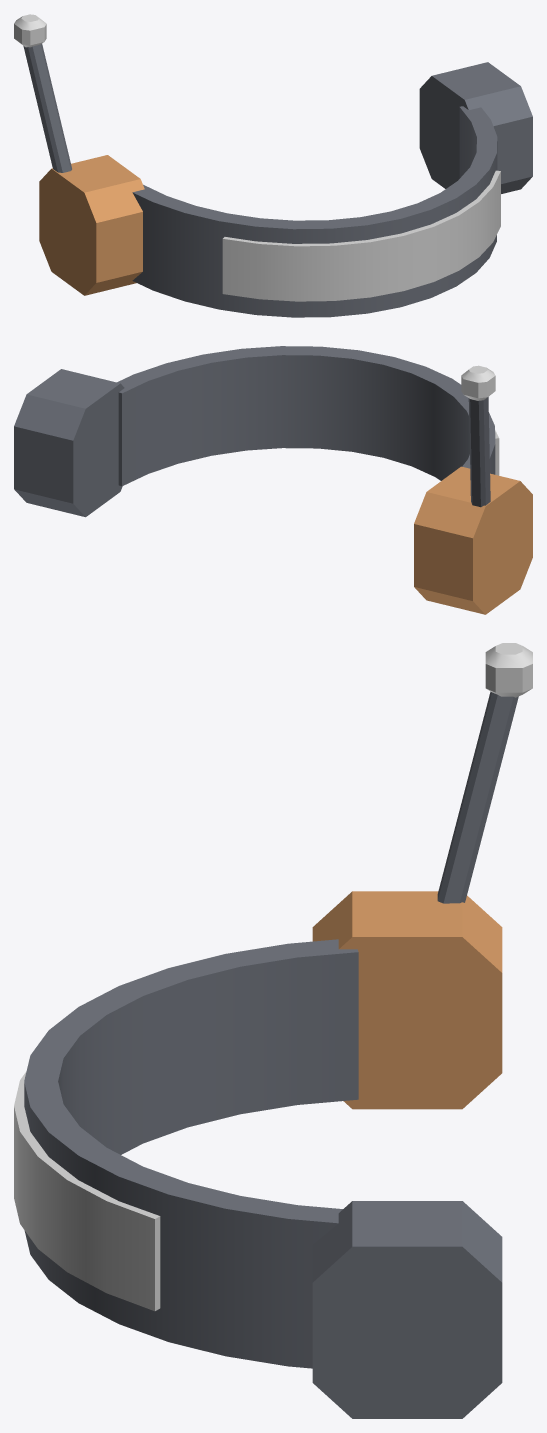
Rendered from gear_visiere.glb.
3 renders of one model, top to bottom at view 1: azimuth 30°, elevation 25°; view 2: azimuth 150°, elevation 25°; view 3: azimuth 270°, elevation 25°, orthographic. The views are drawn at different scales.
Visible parts, largest first — view 1: head__visiere, head__visiere_glow; view 2: head__visiere, head__visiere_glow; view 3: head__visiere, head__visiere_glow.
Boxes of the visible parts, bbox=[...] form: head__visiere: bbox=[23, 44, 532, 317]; head__visiere_glow: bbox=[14, 14, 500, 301]; head__visiere: bbox=[14, 346, 532, 614]; head__visiere_glow: bbox=[461, 365, 499, 475]; head__visiere: bbox=[24, 691, 518, 1418]; head__visiere_glow: bbox=[14, 643, 532, 1311].
Bounding box in the file's own units: 0.259 × 0.133 × 0.153.
